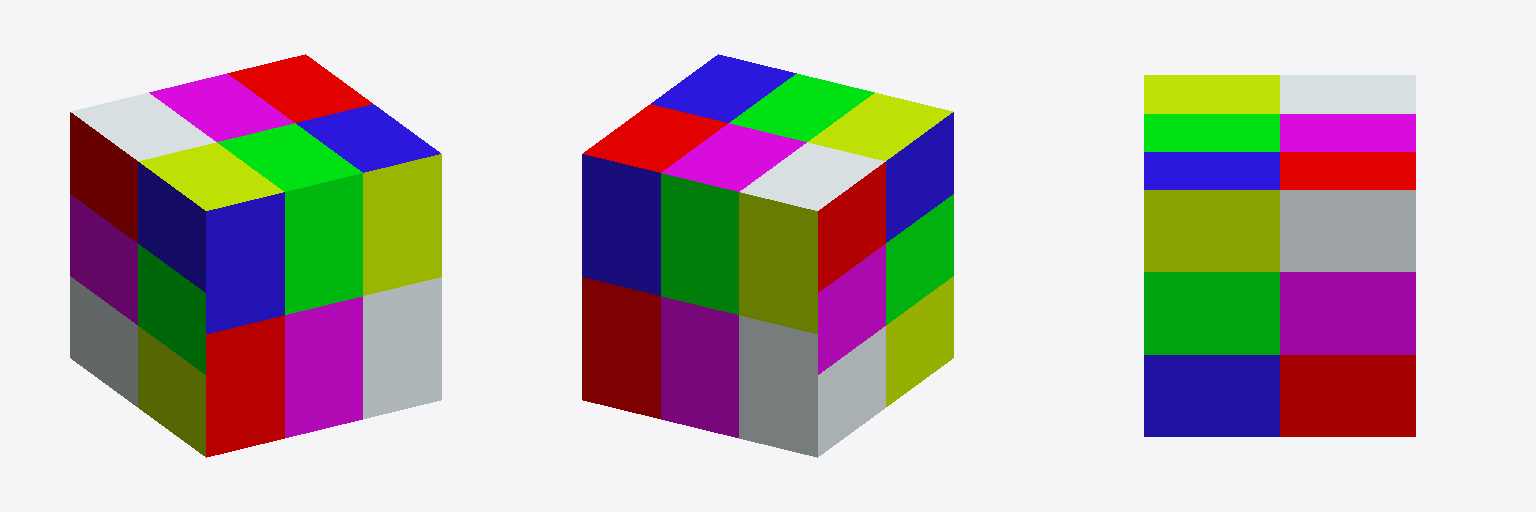
The picture shows the model from 3 angles: view 1: azimuth 30°, elevation 25°; view 2: azimuth 150°, elevation 25°; view 3: azimuth 270°, elevation 25°; orthographic projection.
Parts seen in each view (by area): view 1: Cube_cube.001; view 2: Cube_cube.001; view 3: Cube_cube.001.
Part boxes in pixels (x1,y1,x2,y2): Cube_cube.001: (70,54,441,457); Cube_cube.001: (582,54,953,457); Cube_cube.001: (1144,75,1415,436).
Size of the model in its own units: 10 by 10 by 10.
Materials: 1 (1 with a texture image).